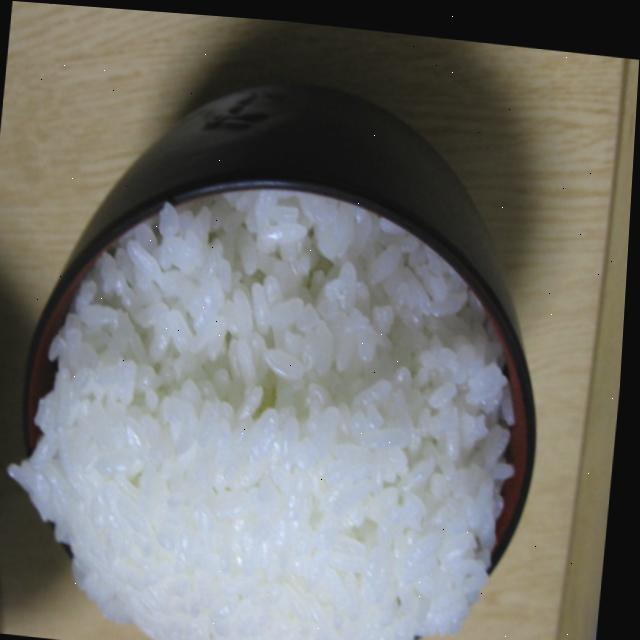米饭主食: (0, 21, 594, 640)
